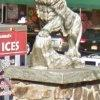Statue: (18, 3, 92, 69)
